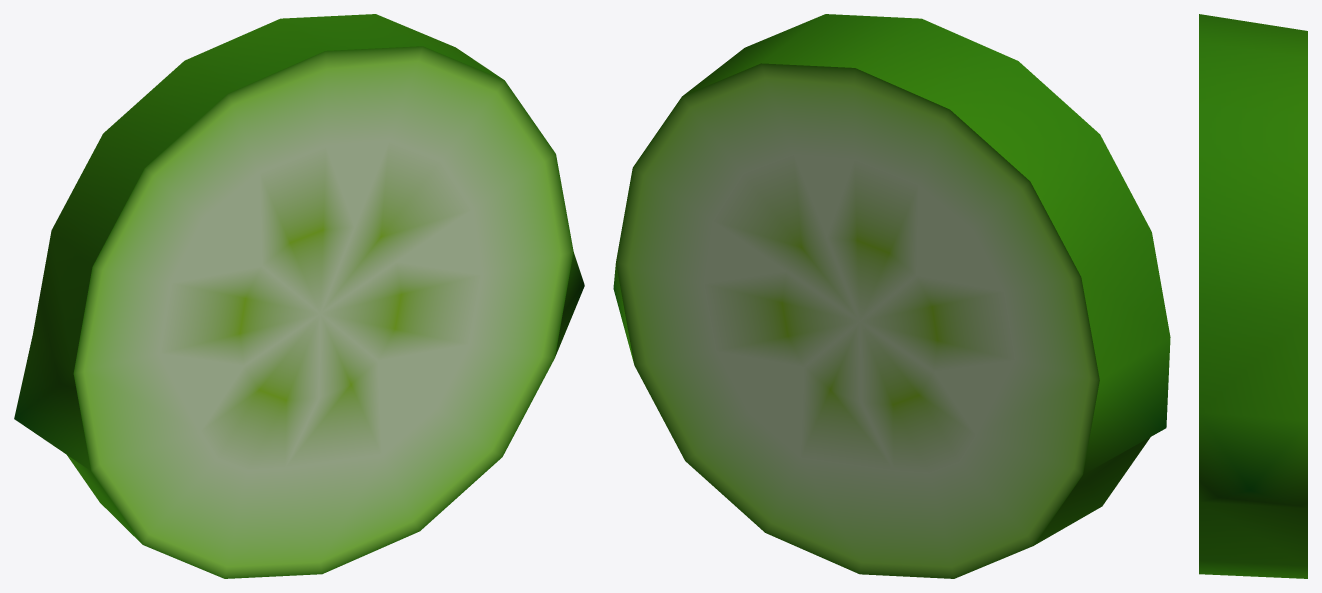
Rendered from Cucumber_Slice_15.fbx.
3 views of the same model, side by side, from view 1: azimuth 30°, elevation 25°; view 2: azimuth 150°, elevation 25°; view 3: azimuth 270°, elevation 25° (orthographic). The views are drawn at different scales.
Visible parts, largest first — view 1: Cucumber_Slice_15; view 2: Cucumber_Slice_15; view 3: Cucumber_Slice_15.
Part boxes in pixels (bbox=[...]): Cucumber_Slice_15: bbox=[14, 14, 584, 578]; Cucumber_Slice_15: bbox=[613, 14, 1170, 578]; Cucumber_Slice_15: bbox=[1199, 14, 1307, 578].
Bounding box in the file's own units: 5 × 4.42 × 0.8606.
